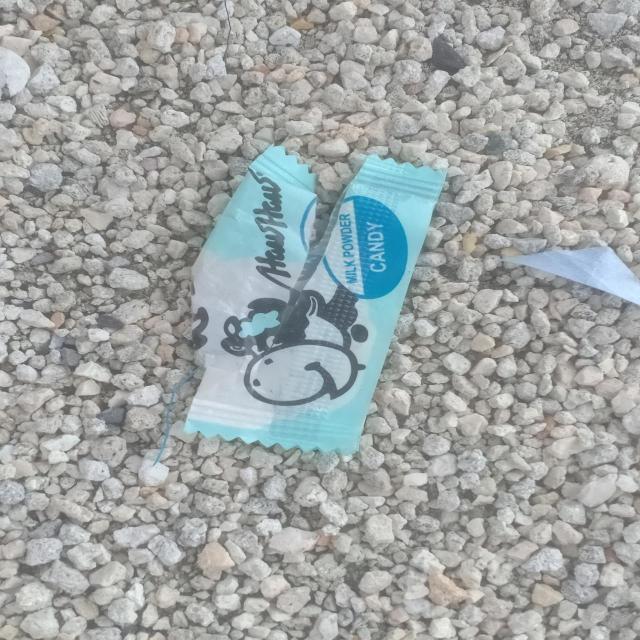plastic_waste: (183, 142, 451, 459)
